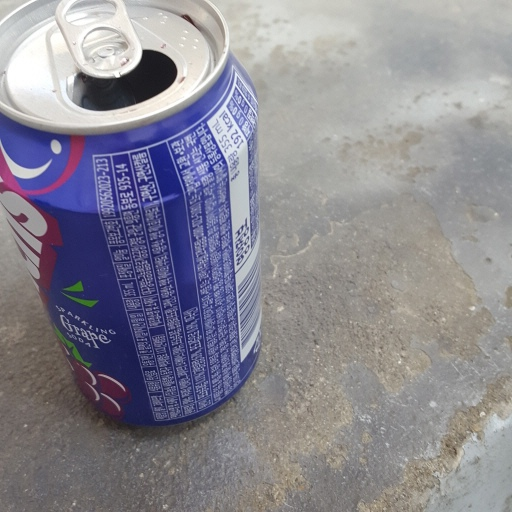Metal_0: (3, 1, 266, 434)
